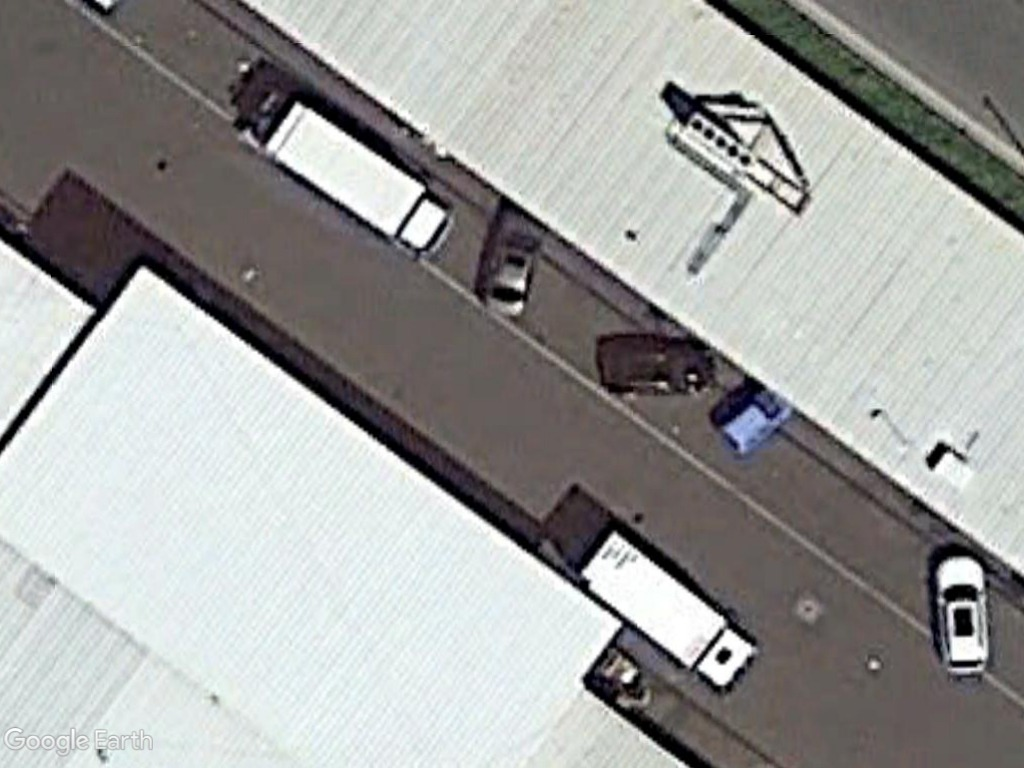car: (924, 543, 993, 682)
truck: (566, 520, 760, 699), (258, 93, 456, 259)
